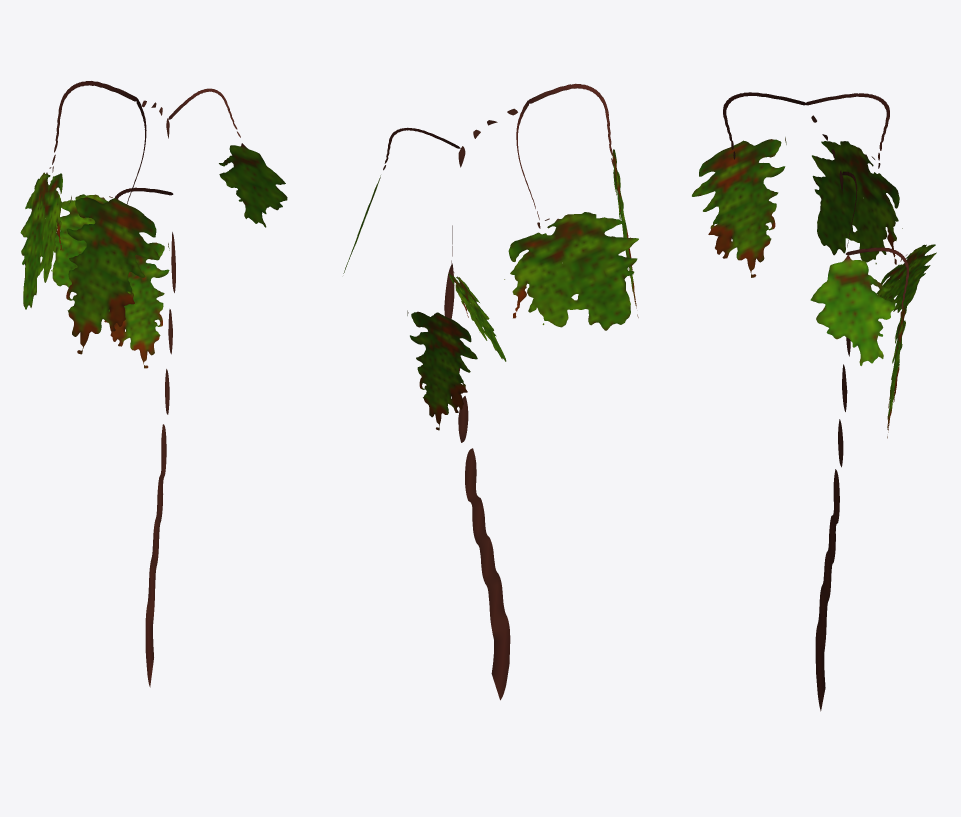
Rendered from Spin Reef Flower D1.fbx.
3 renders of one model, left to right at view 1: azimuth 30°, elevation 25°; view 2: azimuth 150°, elevation 25°; view 3: azimuth 270°, elevation 25°, orthographic.
Parts seen in each view (by area): view 1: Spin Reef Flower D1; view 2: Spin Reef Flower D1; view 3: Spin Reef Flower D1.
Boxes of the visible parts, x1,y1,x2,y2 form: Spin Reef Flower D1: (20, 81, 287, 687); Spin Reef Flower D1: (343, 83, 638, 700); Spin Reef Flower D1: (692, 92, 936, 711).
Size of the model in its own units: 74.74 by 190 by 56.62.
